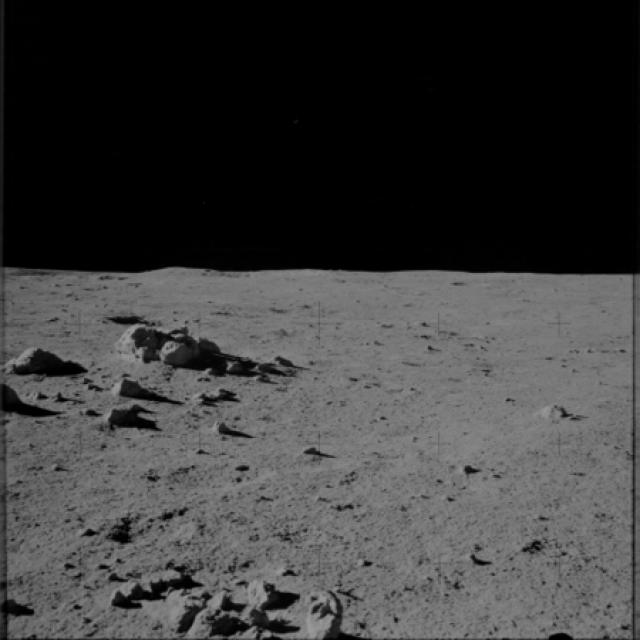crater: (140, 454, 267, 501), (89, 512, 206, 553), (105, 309, 194, 328)
rock: (107, 563, 287, 639), (105, 318, 221, 374), (297, 582, 363, 638), (3, 344, 80, 376), (101, 400, 150, 440), (181, 384, 235, 409), (0, 376, 35, 411), (105, 374, 148, 397), (538, 399, 573, 424), (207, 416, 232, 439)
